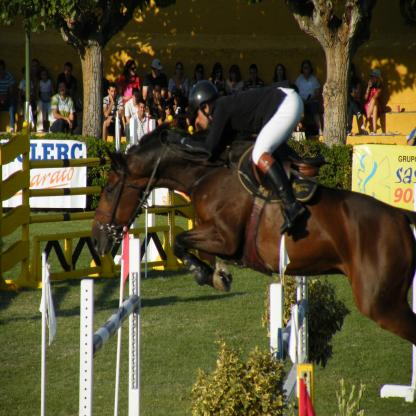Helmet: (187, 78, 218, 122)
